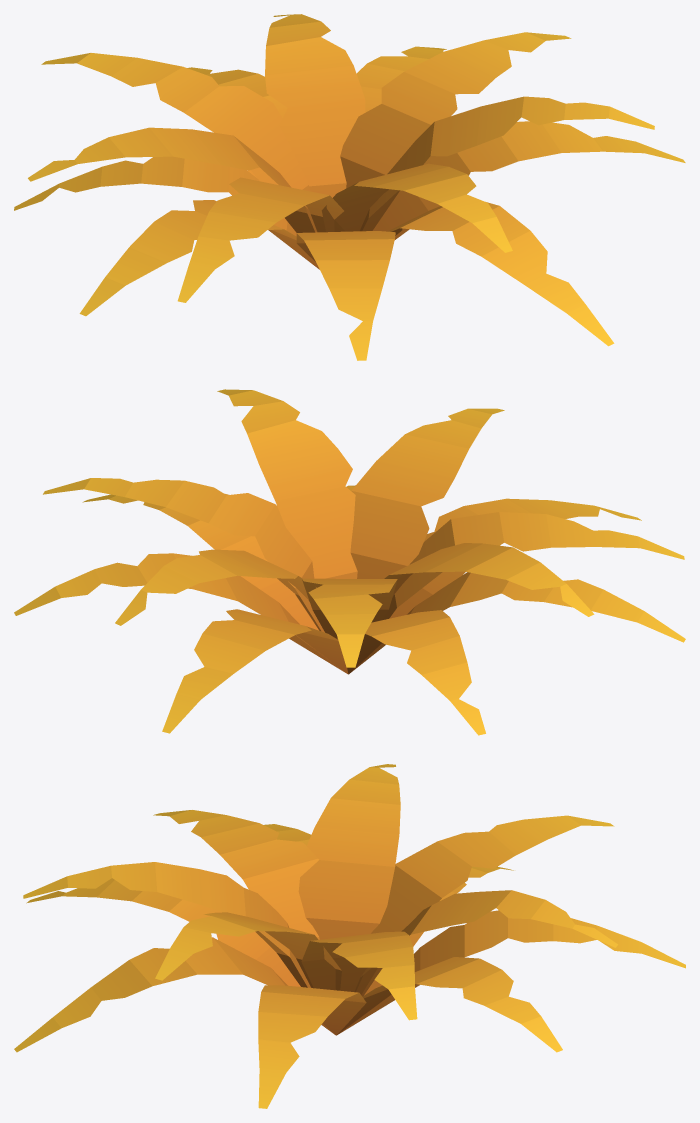
File: AutumnDoubleFern.fbx
The picture shows the model from 3 angles, top to bottom: view 1: azimuth 30°, elevation 25°; view 2: azimuth 150°, elevation 25°; view 3: azimuth 270°, elevation 25°; orthographic projection. The views are drawn at different scales.
Parts seen in each view (by area): view 1: AutumnDoubleFern; view 2: AutumnDoubleFern; view 3: AutumnDoubleFern.
Boxes of the visible parts, box(x1,y1,x2,y2) form: AutumnDoubleFern: box(14, 14, 685, 360); AutumnDoubleFern: box(14, 389, 685, 735); AutumnDoubleFern: box(14, 764, 685, 1108).
Size of the model in its own units: 433 by 127 by 434.
